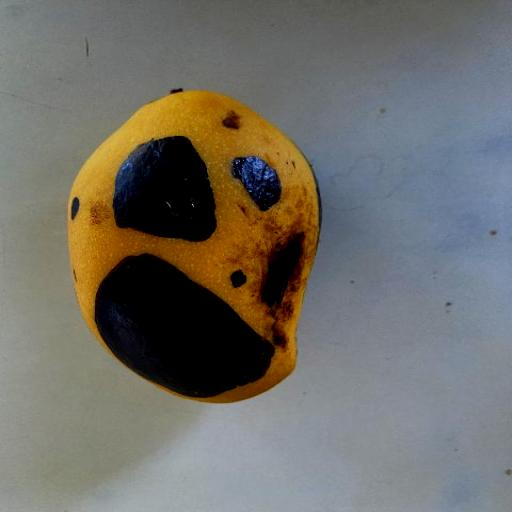mango-overripe: (28, 46, 361, 430)
